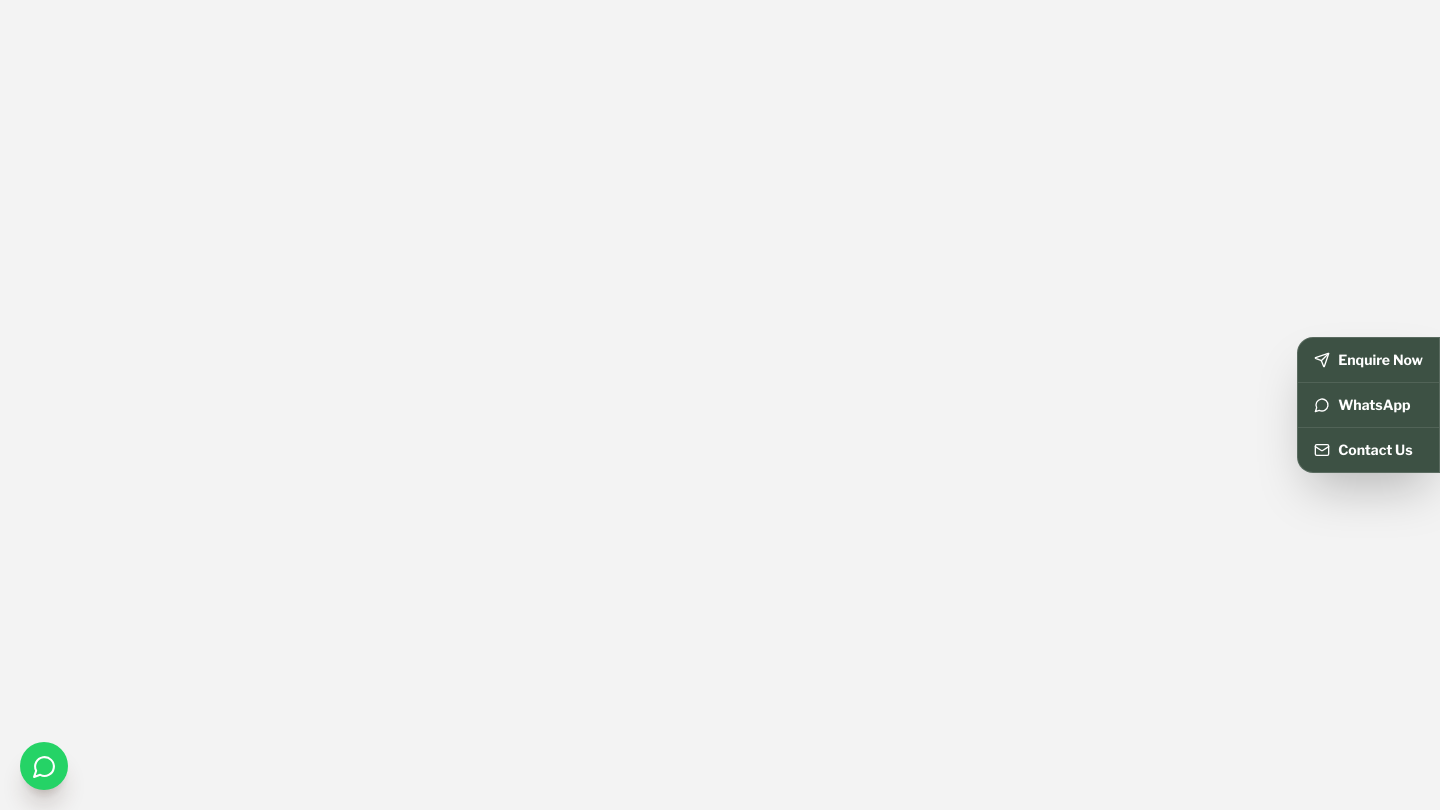
Scenario: GlobalWidgets › renders real WhatsApp, enquiry, and contact actions
The width and height of the screenshot is (1440, 810).
Click the button "Enquire Now": (1369, 360) x1=1298 y1=338 x2=1439 y2=383
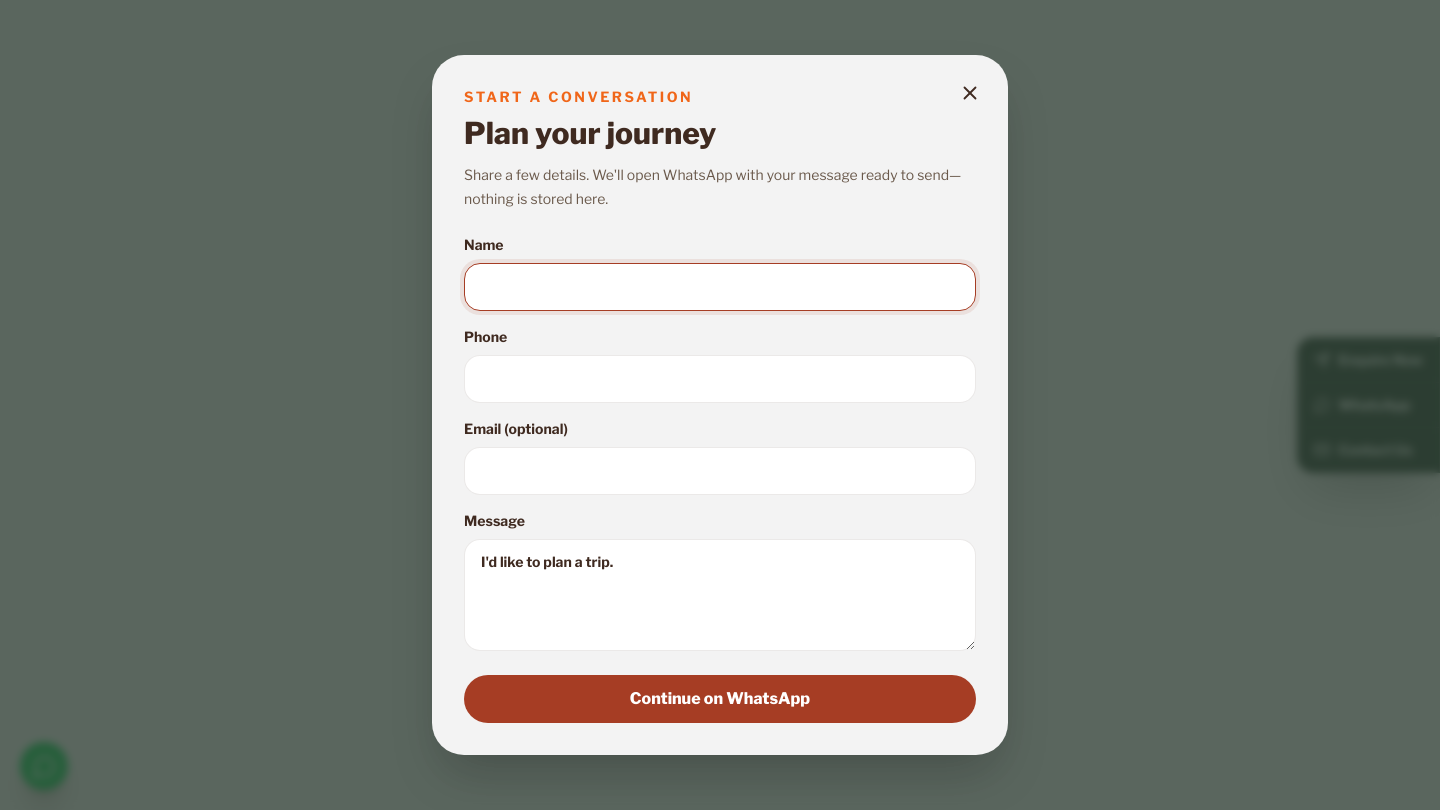
Check: the dialog "Plan your journey" is shown, box x1=432 y1=55 x2=1008 y2=755
